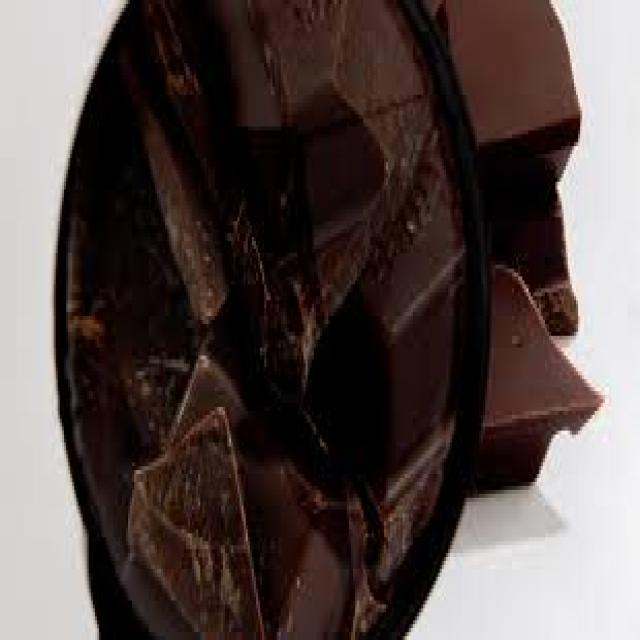Chocolate: (60, 0, 606, 640)
